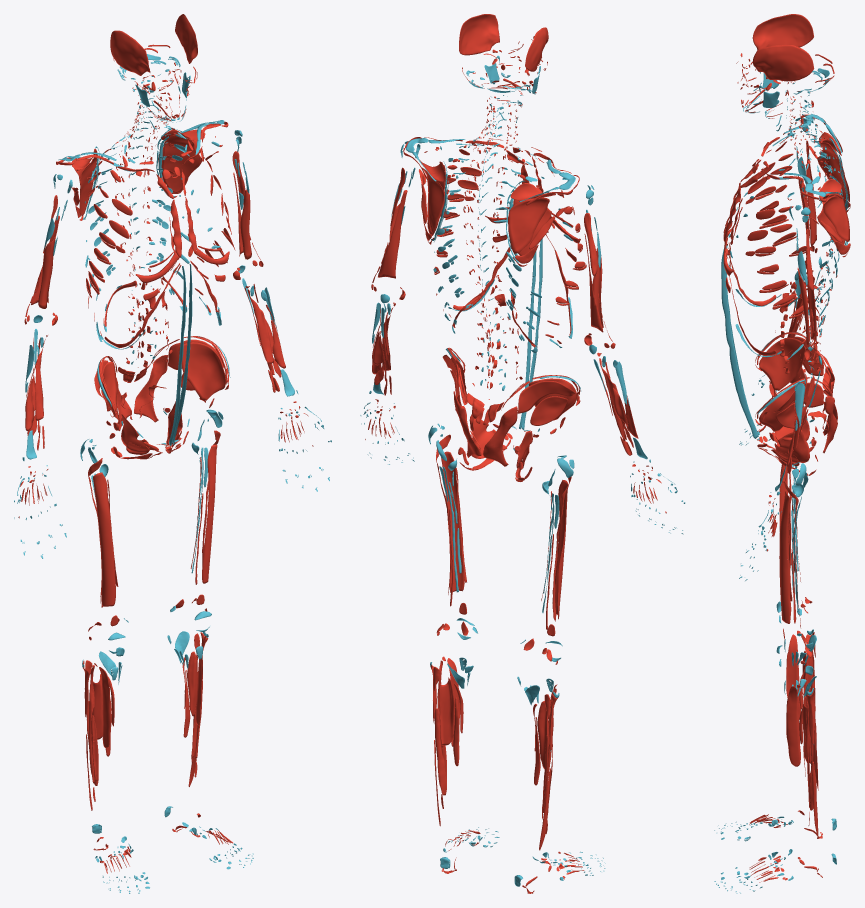
Rendered from insertions_at.glb.
3 renders of one model, left to right at view 1: azimuth 30°, elevation 25°; view 2: azimuth 150°, elevation 25°; view 3: azimuth 270°, elevation 25°, orthographic. The views are drawn at different scales.
Parts seen in each view (by area): view 1: Vastus intermedius origin and insertion.r, Iliacus origin and insertion.l, Subscapularis origin and insertion.l, Temporalis muscle origin and insertion.r, Pectoralis major origin and insertion.r, Gluteus maximus origin and insertion.l, Vastus intermedius origin and insertion.l, Serratus anterior origins and insertion.r, Pectoralis major origin and insertion.l, Temporalis muscle origin and insertion.l, Tibialis anterior origin and insertion.r, Brachialis origin and insertion.r (+4 smaller); view 2: Infraspinatus muscle origin and insertion.r, Vastus intermedius origin and insertion.l, Temporalis muscle origin and insertion.l, Triceps brachii origin and insertion.l, Gluteus medius origin and insertion.r, Vastus intermedius origin and insertion.r, Gluteus maximus origin and insertion.r, Triceps brachii origin and insertion.r, Tibialis posterior origin and insertion.l, Gluteus minimus origin and insertion.r, Infraspinatus muscle origin and insertion.l; view 3: Temporalis muscle origin and insertion.l, Temporalis muscle origin and insertion.r, Iliacus origin and insertion.r, Vastus intermedius origin and insertion.l, Tibialis anterior origin and insertion.l, External abdominal oblique origin and insertion.l, Serratus anterior origins and insertion.l, Internal abdominal oblique muscle origin and insertion.l, Infraspinatus muscle origin and insertion.l, Serratus anterior origins and insertion.r, Iliacus origin and insertion.l, Triceps brachii origin and insertion.l (+27 smaller).
Part boxes in pixels (x1,y1,x2,y2): Vastus intermedius origin and insertion.r: (93, 472, 117, 669); Iliacus origin and insertion.l: (178, 342, 226, 454); Subscapularis origin and insertion.l: (162, 133, 239, 192); Temporalis muscle origin and insertion.r: (110, 30, 150, 92); Pectoralis major origin and insertion.r: (56, 166, 181, 300); Gluteus maximus origin and insertion.l: (134, 355, 208, 487); Vastus intermedius origin and insertion.l: (202, 444, 217, 583); Serratus anterior origins and insertion.r: (83, 154, 127, 294); Pectoralis major origin and insertion.l: (181, 146, 245, 281); Temporalis muscle origin and insertion.l: (175, 14, 197, 83); Tibialis anterior origin and insertion.r: (99, 667, 133, 853); Brachialis origin and insertion.r: (38, 236, 55, 347); Infraspinatus muscle origin and insertion.r: (508, 189, 593, 253); Vastus intermedius origin and insertion.l: (441, 451, 466, 670); Temporalis muscle origin and insertion.l: (459, 14, 499, 63); Triceps brachii origin and insertion.l: (378, 167, 426, 303); Gluteus medius origin and insertion.r: (517, 381, 575, 477); Vastus intermedius origin and insertion.r: (546, 480, 568, 692); Gluteus maximus origin and insertion.r: (483, 406, 559, 528); Triceps brachii origin and insertion.r: (555, 206, 603, 354); Tibialis posterior origin and insertion.l: (439, 677, 475, 846); Gluteus minimus origin and insertion.r: (530, 396, 574, 468); Infraspinatus muscle origin and insertion.l: (400, 144, 444, 233); Temporalis muscle origin and insertion.l: (752, 45, 814, 92); Temporalis muscle origin and insertion.r: (752, 14, 813, 73); Iliacus origin and insertion.r: (759, 337, 805, 390); Vastus intermedius origin and insertion.l: (779, 489, 791, 693); Tibialis anterior origin and insertion.l: (768, 686, 800, 859); External abdominal oblique origin and insertion.l: (721, 252, 813, 437); Serratus anterior origins and insertion.l: (755, 168, 846, 315); Internal abdominal oblique muscle origin and insertion.l: (721, 255, 813, 438); Infraspinatus muscle origin and insertion.l: (801, 196, 849, 241); Serratus anterior origins and insertion.r: (755, 136, 847, 254); Iliacus origin and insertion.l: (759, 381, 804, 496); Triceps brachii origin and insertion.l: (805, 217, 821, 364).
Size of the model in its own units: 0.6627 by 1.66 by 0.2469.
